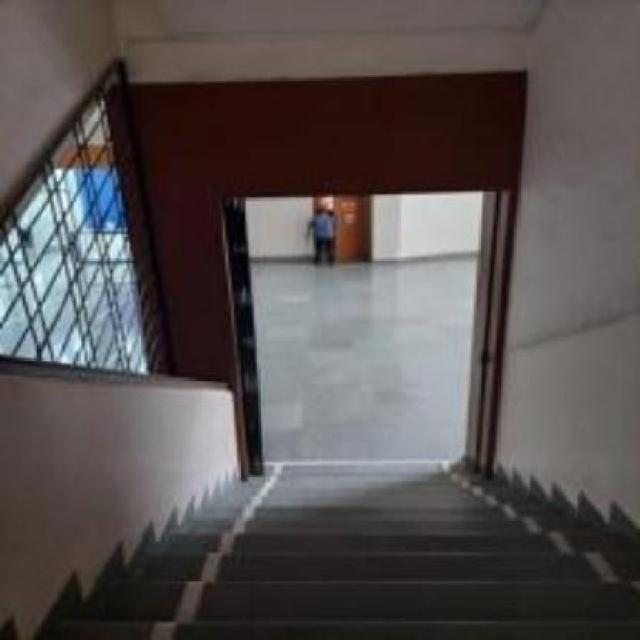stair: (35, 441, 639, 640)
